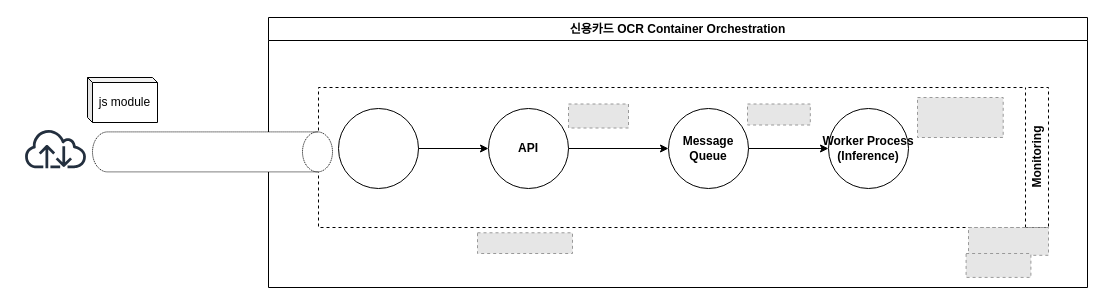
Some shapes in this 1105 by 305 pixel diagram are drawn without their labels. Grey dashed boxes stand in for pictures. The box of each missing label's shape, as (x1, y1, x2, y2) in pixels:
Edge Router Reverse Proxy: (338, 108, 418, 188)
internet: (16, 110, 94, 186)
Websocket(channel) End to End Encryption: (92, 131, 332, 172)
